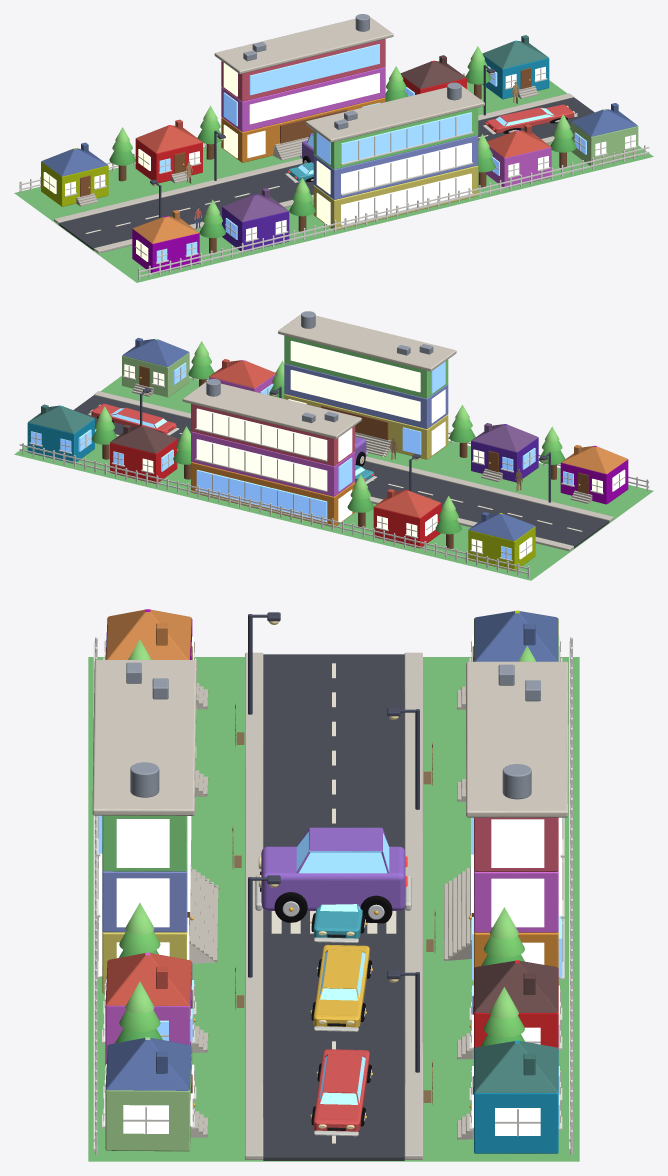
Rendered from OyuncakKasaba.fbx.
3 renders of one model, top to bottom at view 1: azimuth 30°, elevation 25°; view 2: azimuth 150°, elevation 25°; view 3: azimuth 270°, elevation 25°, orthographic. The views are drawn at different scales.
Parts seen in each view (by area): view 1: Oyuncak_Kasaba_Model; view 2: Oyuncak_Kasaba_Model; view 3: Oyuncak_Kasaba_Model.
Part boxes in pixels (x1,y1,x2,y2): Oyuncak_Kasaba_Model: (14,14,653,282); Oyuncak_Kasaba_Model: (14,311,653,580); Oyuncak_Kasaba_Model: (88,609,579,1161).
Bounding box in the file's own units: 45.13 × 9.29 × 18.56.
